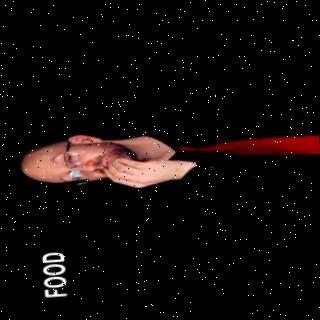Food: (14, 104, 320, 206)
